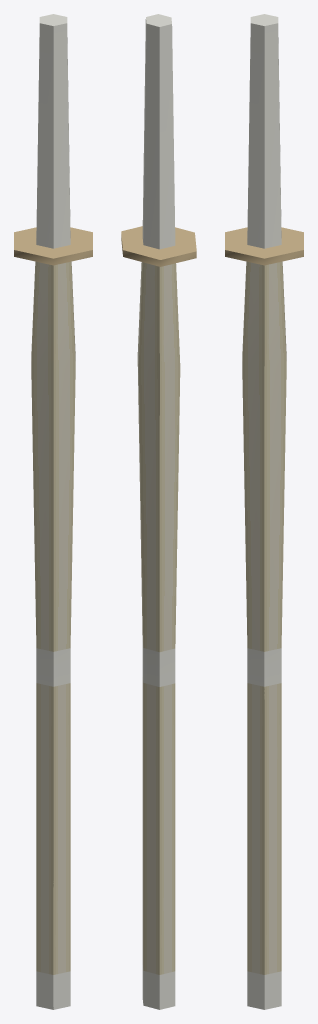
The model's file is 006a_Bamboo_Sword.glb.
3 renders of one model, left to right at view 1: azimuth 90°, elevation 25°; view 2: azimuth 210°, elevation 25°; view 3: azimuth 270°, elevation 25°, orthographic.
Parts seen in each view (by area): view 1: part_0; view 2: part_0; view 3: part_0.
Boxes of the visible parts, bbox=[...] form: part_0: bbox=[14, 14, 92, 1009]; part_0: bbox=[121, 14, 196, 1009]; part_0: bbox=[225, 14, 303, 1009].
Size of the model in its own units: 0.0766 by 1 by 0.0727.
1 material, 1 textured.
